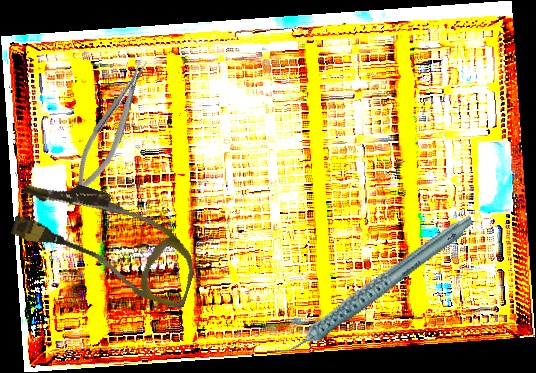Cannula: (4, 169, 209, 310)
Handpiece: (254, 213, 493, 358)
Needle Holder: (61, 54, 162, 203)
